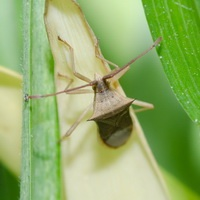insect: (24, 36, 161, 147)
